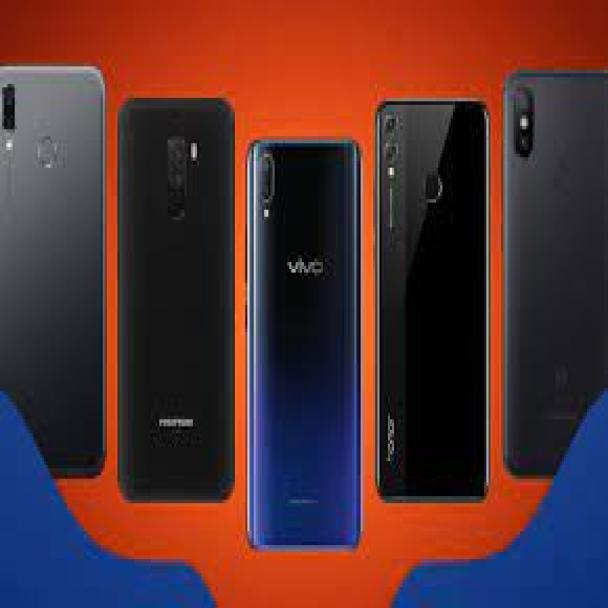Handphone: (116, 93, 234, 498), (246, 140, 362, 550), (374, 98, 489, 496), (2, 63, 107, 476), (504, 68, 608, 482)
